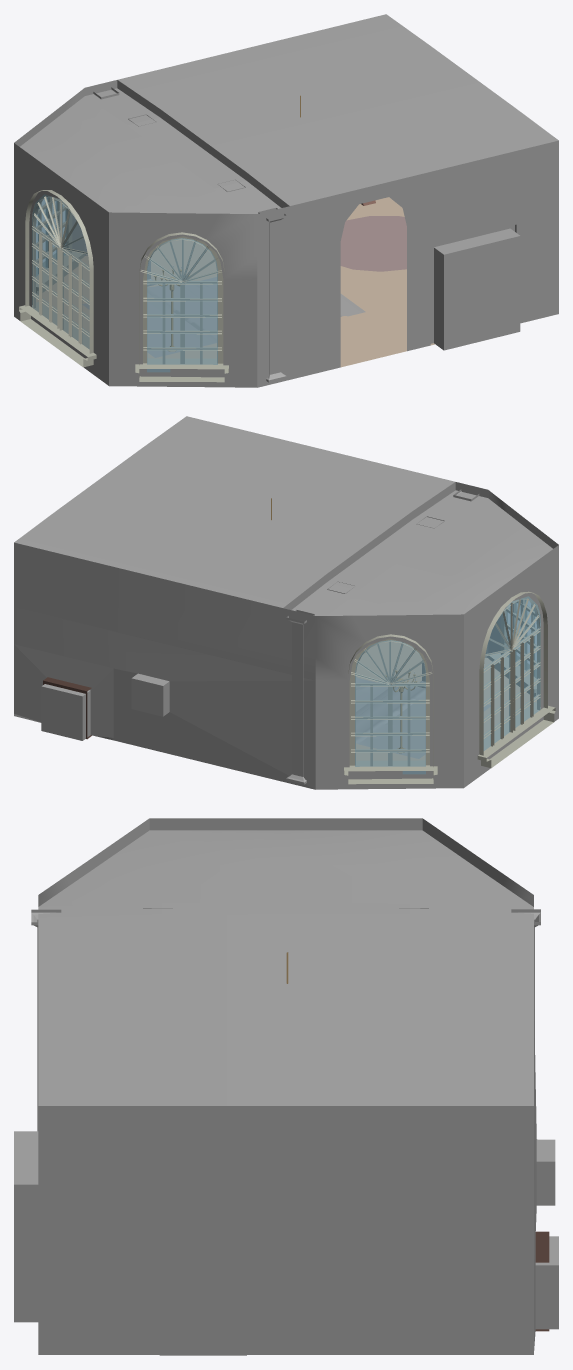
File: Room_interior.fbx
3 views of the same model, one above another, from view 1: azimuth 30°, elevation 25°; view 2: azimuth 150°, elevation 25°; view 3: azimuth 270°, elevation 25° (orthographic). The views are drawn at different scales.
Parts seen in each view (by area): view 1: Walls, Ceiling, Floor, Glass_L, Glass_M, Bars_M, Carpet_big, Carpet_round, Bars_L, Pillar_1, Boog_M, Balkon_M (+4 smaller); view 2: Walls, Ceiling, Glass_R, Glass_M, Bars_M, Carpet_big, Bars_R, Floor, Pillar_4, Boog_M, Balkon_M, Boog_R (+4 smaller); view 3: Walls, Ceiling, Pillar_1.
Part boxes in pixels (x1,y1,x2,y2): Walls: (14,80,558,387); Ceiling: (20,14,558,213); Floor: (36,197,434,367); Glass_L: (147,238,217,372); Glass_M: (32,194,89,349); Bars_M: (32,196,89,344); Carpet_big: (82,277,365,357); Carpet_round: (340,216,406,271); Bars_L: (140,238,221,364); Pillar_1: (258,208,286,382); Boog_M: (25,190,93,353); Balkon_M: (19,302,96,367); Walls: (14,482,558,789); Ceiling: (14,416,552,615); Glass_R: (355,640,425,774); Glass_M: (483,596,540,750); Bars_M: (483,598,540,746); Carpet_big: (356,677,490,758); Bars_R: (351,640,432,766); Floor: (356,641,536,760); Pillar_4: (286,610,314,784); Boog_M: (479,591,547,755); Balkon_M: (477,702,555,768); Boog_R: (348,634,433,766); Walls: (14,818,558,1354); Ceiling: (38,830,533,1105); Pillar_1: (31,909,61,1131).
Bounding box in the file's own units: 901 × 407 × 702.
